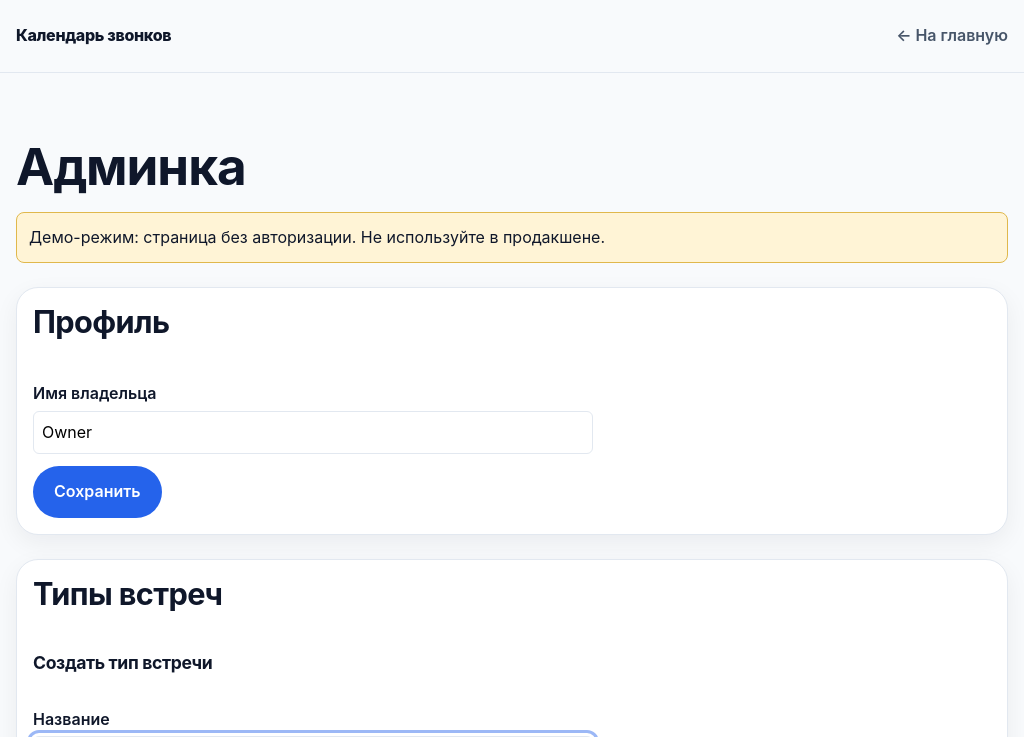
Test case: AdminPage › announces owner save success via live region
The width and height of the screenshot is (1024, 737).
Expected: the field labelled "Имя владельца" is shown, 33,411 -> 593,454
Click the button "Сохранить".
click(97, 492)  # box 33,466 -> 162,518
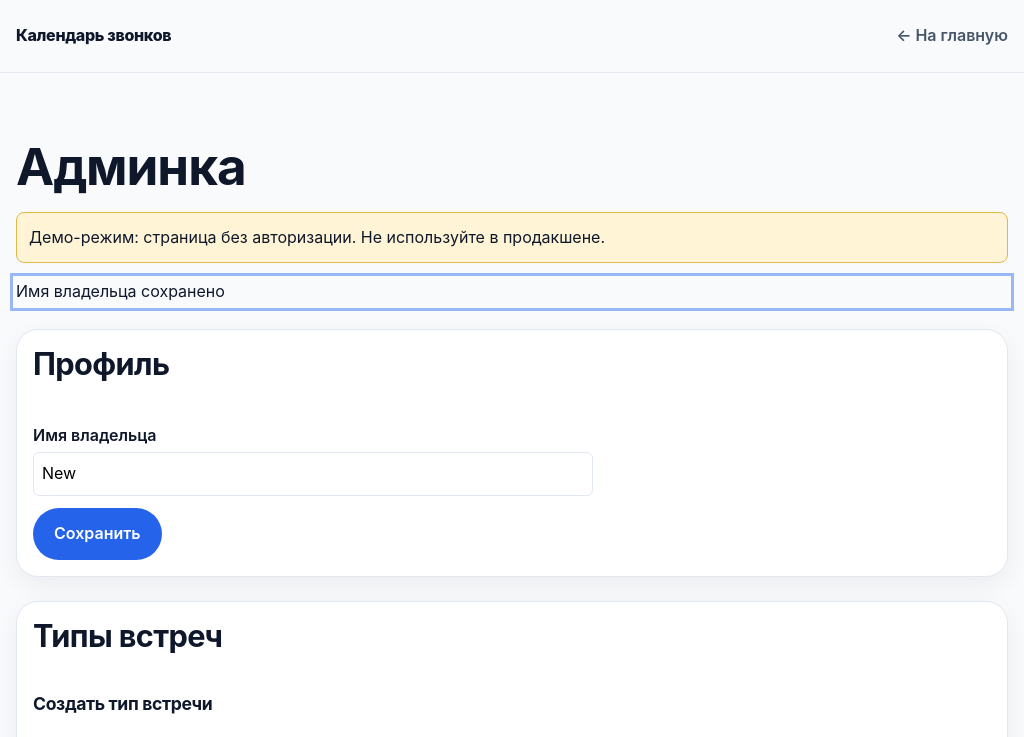
Now the text "Имя владельца сохранено" is shown, box 16,282 -> 225,302
